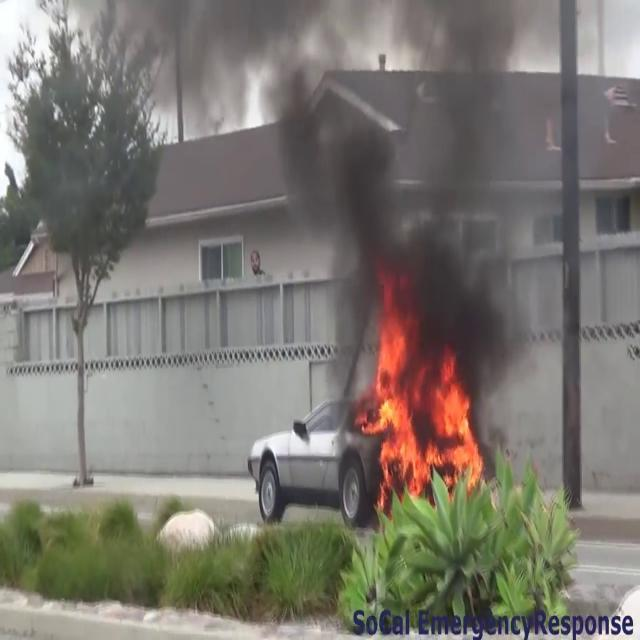Fire: (360, 308, 482, 503)
Smoke: (253, 0, 573, 381), (110, 0, 360, 139)
